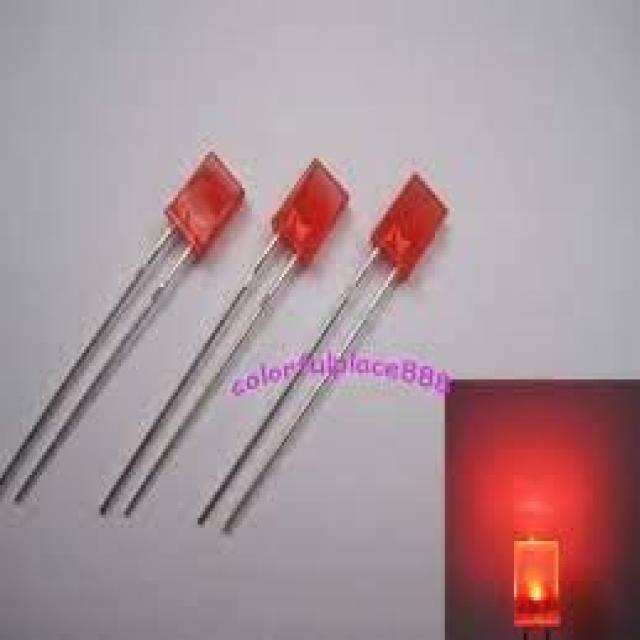Led: (103, 159, 349, 511), (110, 154, 243, 321), (336, 174, 447, 316)
